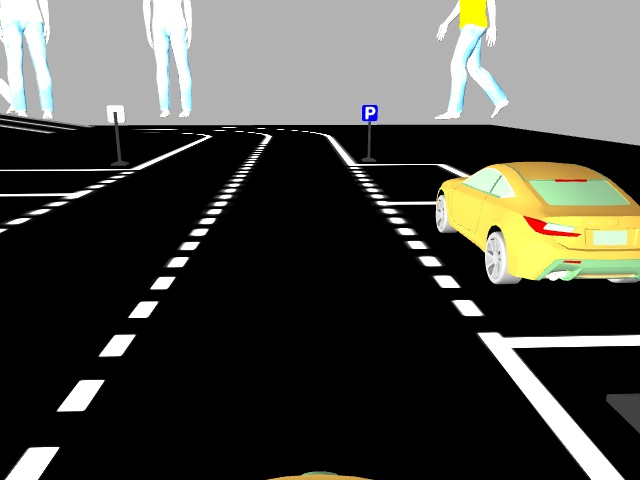Parking: (360, 103, 379, 122)
